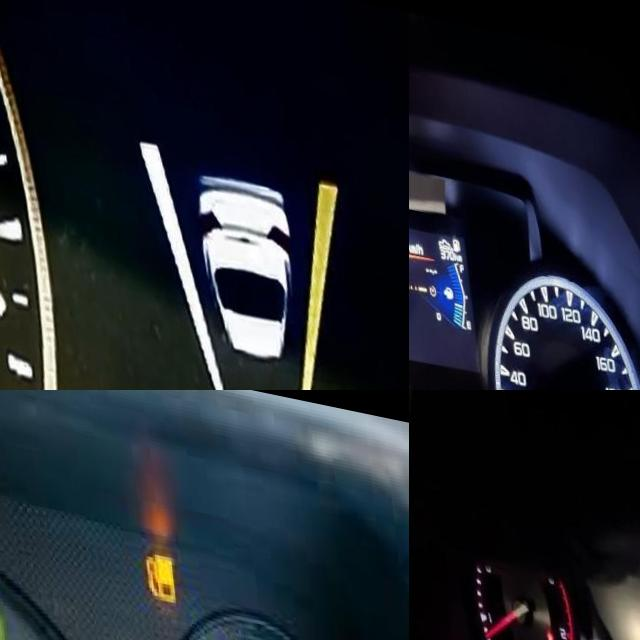Seat Belt: (538, 619, 547, 639)
